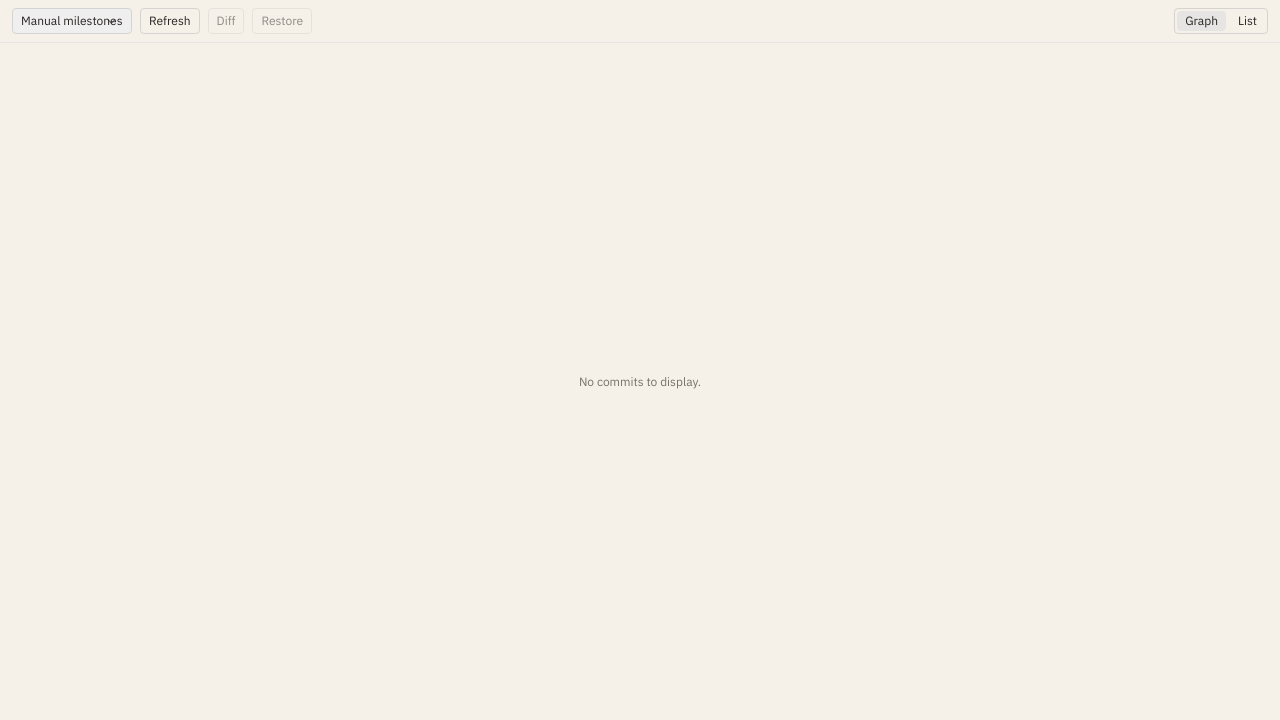
Test: GitHistoryList › #1400 top-toolbar Diff/Restore › top-toolbar Restore opens the confirmation dialog for the selected commit
The width and height of the screenshot is (1280, 720).
Click the button with test id "git-history-view-list" at (1248, 21), box [1230,11,1265,31]
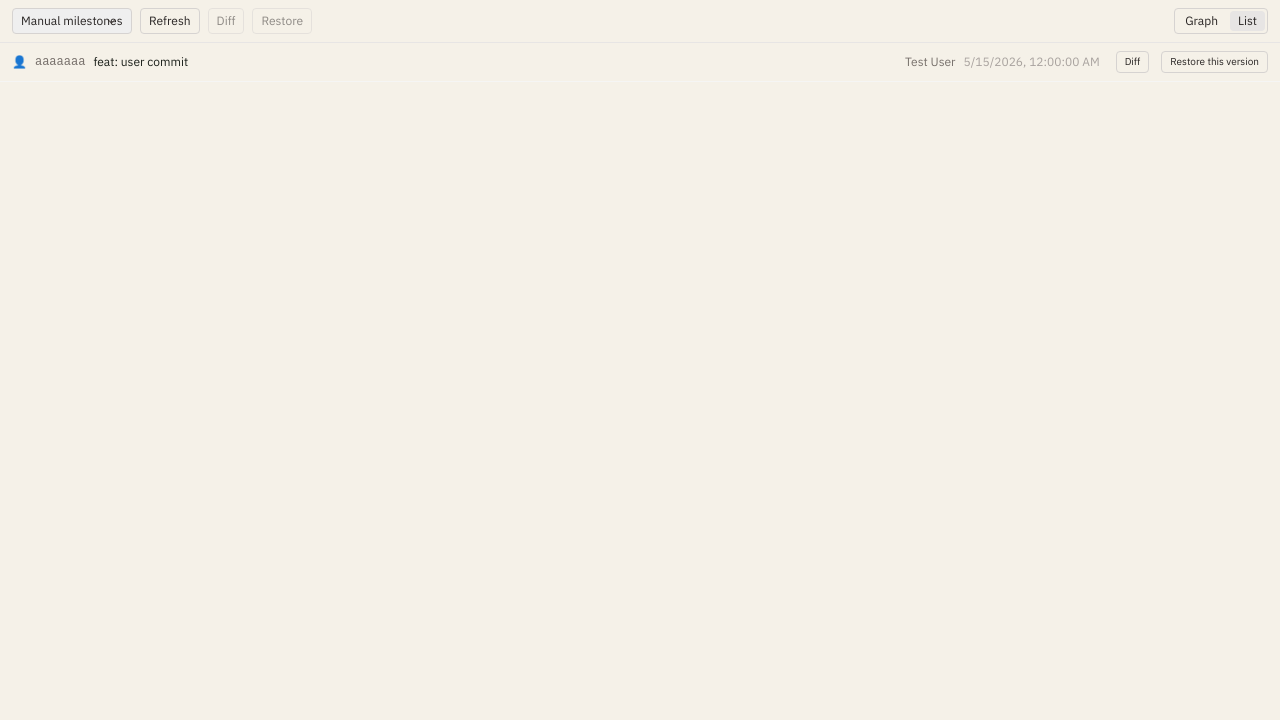
Click the list item at (640, 62), box [0,43,1279,82]
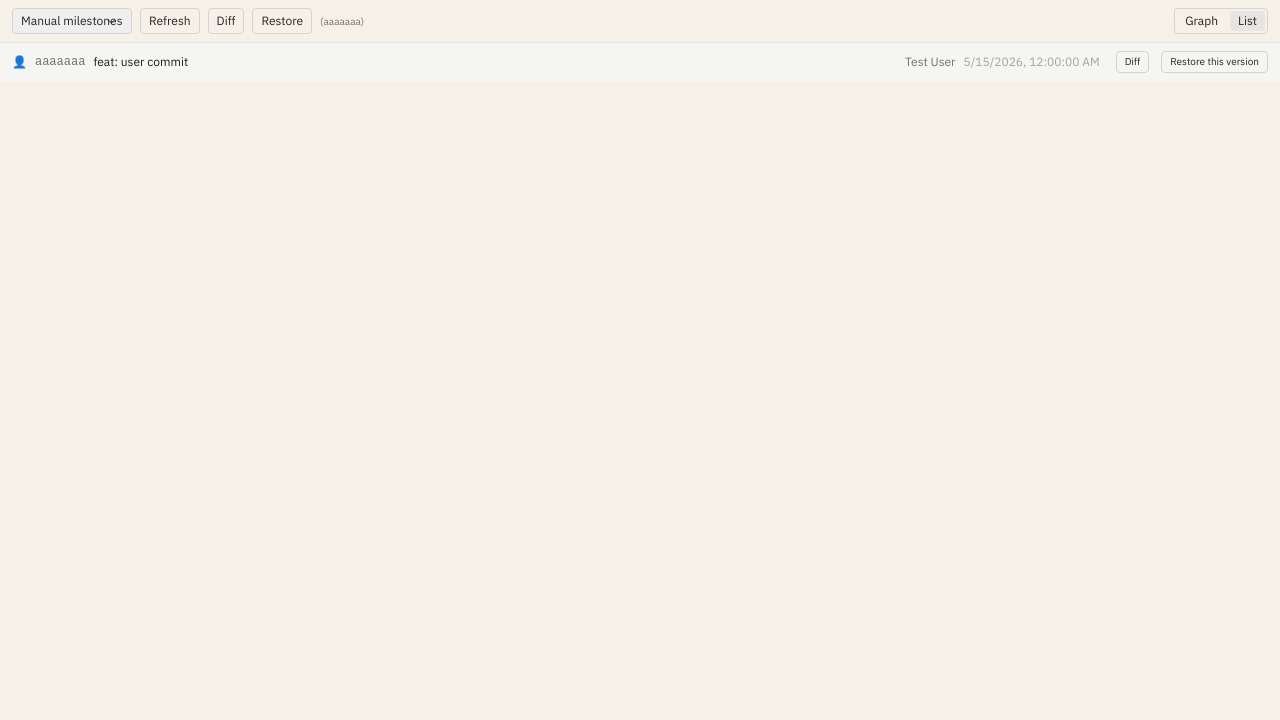
Click the button with test id "git-history-toolbar-restore" at (282, 21), box [252,8,312,34]
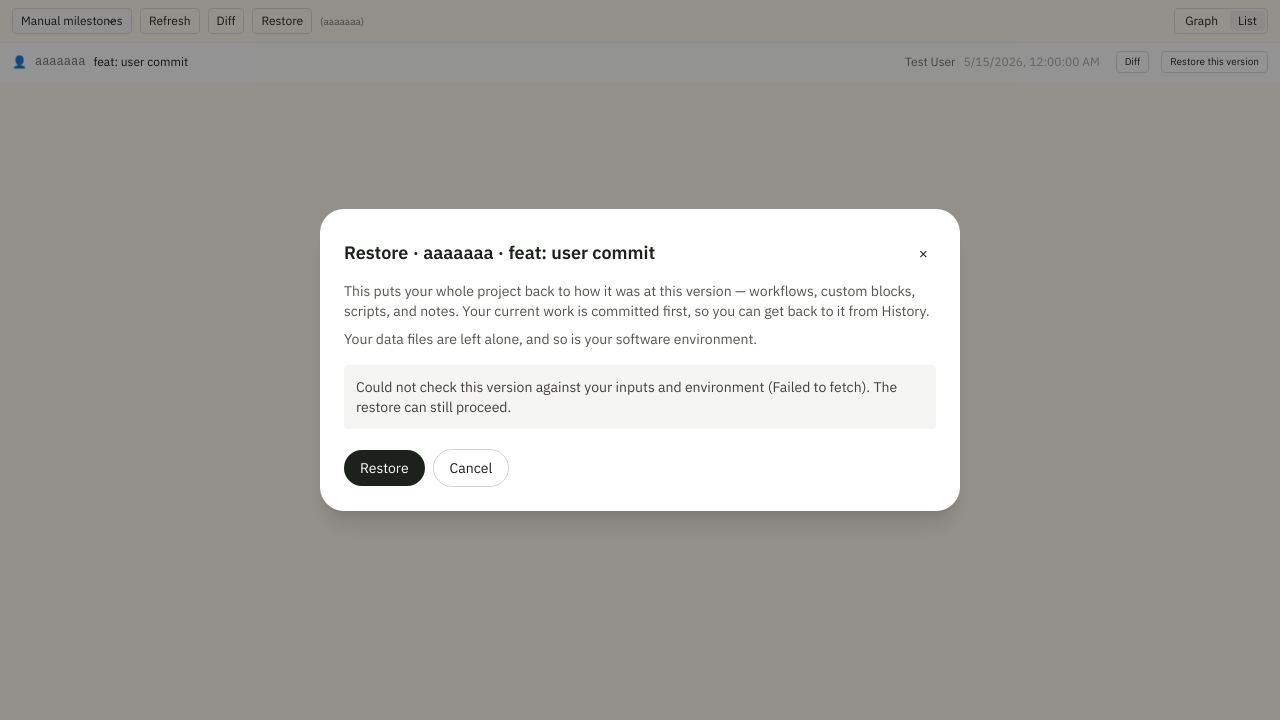
expect the dialog with test id "restore-dialog" is shown: met, box [320,209,960,511]
